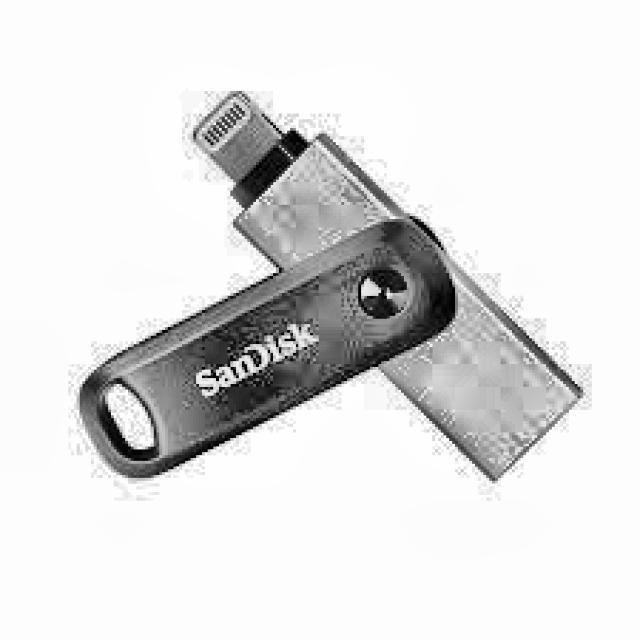Mug: (120, 40, 622, 502)
